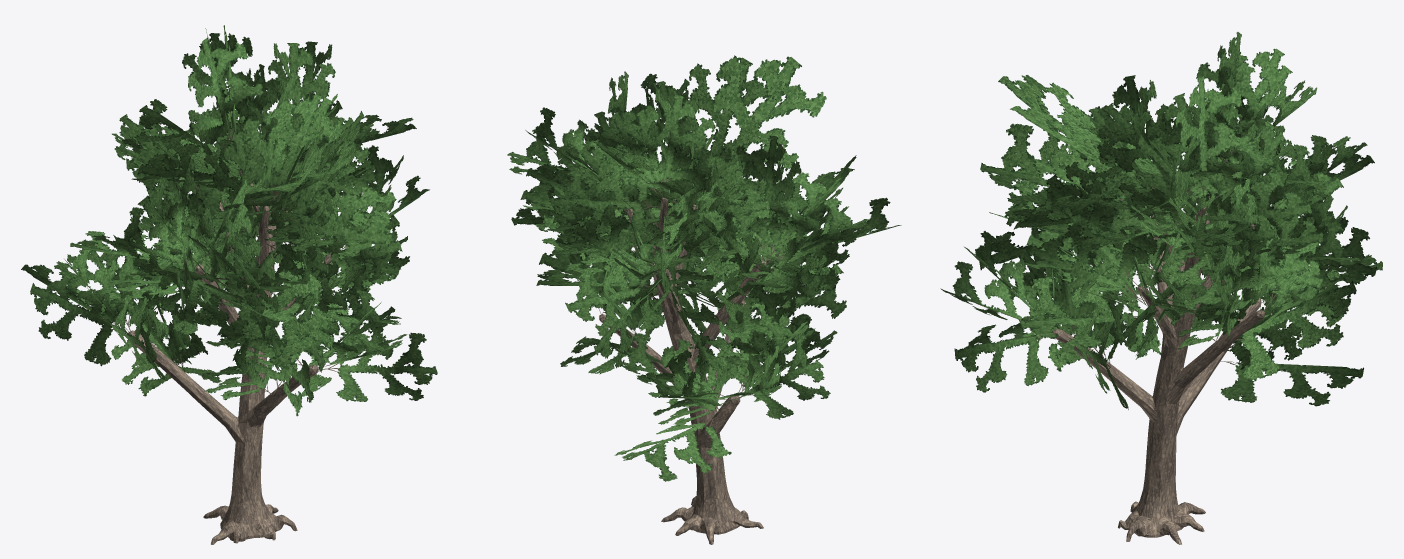
The model's file is environment_elm6_v76.fbx.
The picture shows the model from 3 angles, left to right: view 1: azimuth 30°, elevation 25°; view 2: azimuth 150°, elevation 25°; view 3: azimuth 270°, elevation 25°; orthographic projection. The views are drawn at different scales.
Parts seen in each view (by area): view 1: environment_elm6_v76_lod0; view 2: environment_elm6_v76_lod0; view 3: environment_elm6_v76_lod0.
Boxes of the visible parts, x1,y1,x2,y2 form: environment_elm6_v76_lod0: (21,25,437,544); environment_elm6_v76_lod0: (507,55,901,544); environment_elm6_v76_lod0: (940,32,1382,544).
Size of what is drawn, in the model's own units: 2279 by 2717 by 2222.
2 materials, 2 textured.
